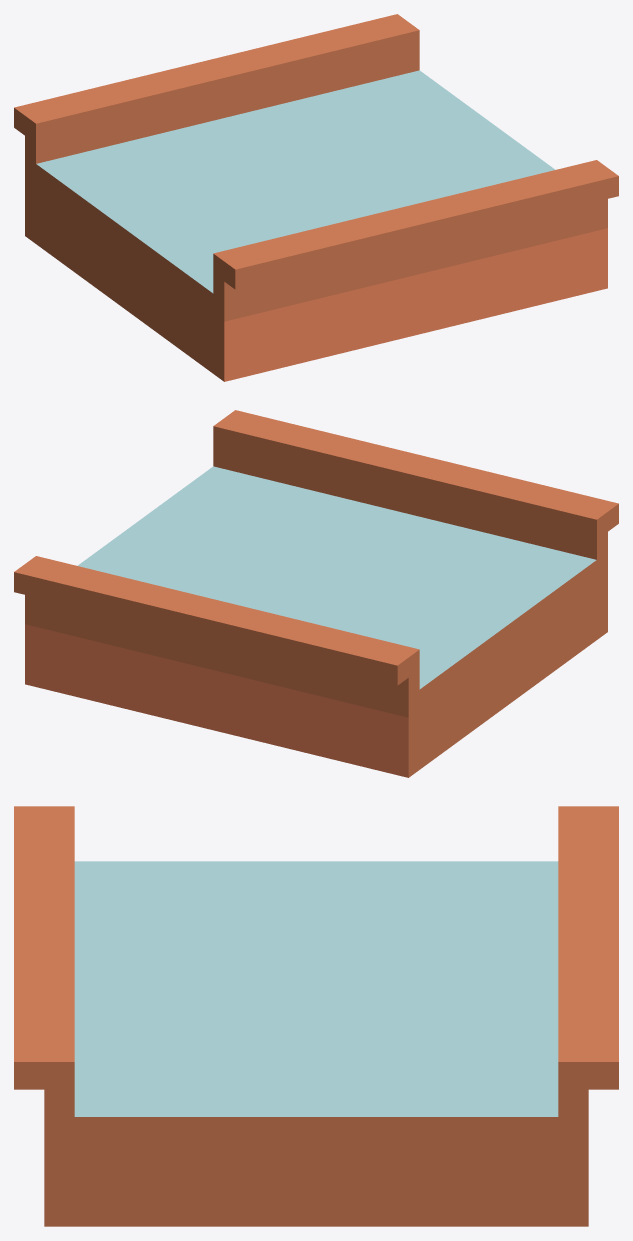
3 renders of one model, top to bottom at view 1: azimuth 30°, elevation 25°; view 2: azimuth 150°, elevation 25°; view 3: azimuth 270°, elevation 25°, orthographic. The views are drawn at different scales.
Parts seen in each view (by area): view 1: bridge_center_wood; view 2: bridge_center_wood; view 3: bridge_center_wood.
Boxes of the visible parts, x1=… form: bridge_center_wood: x1=14, y1=14, x2=618, y2=381; bridge_center_wood: x1=14, y1=410, x2=618, y2=777; bridge_center_wood: x1=14, y1=806, x2=618, y2=1226.
Size of the model in its own units: 1 by 0.3 by 1.
